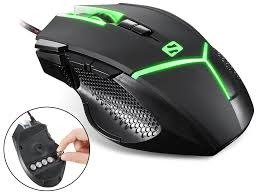mouse: (30, 0, 256, 152)
